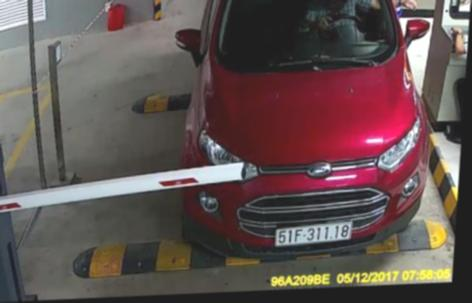License_Plate: (272, 219, 359, 246)
